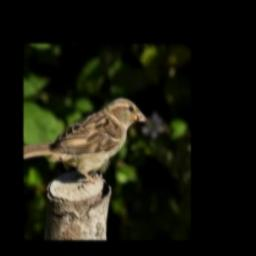Sparrow: (24, 97, 147, 182)
